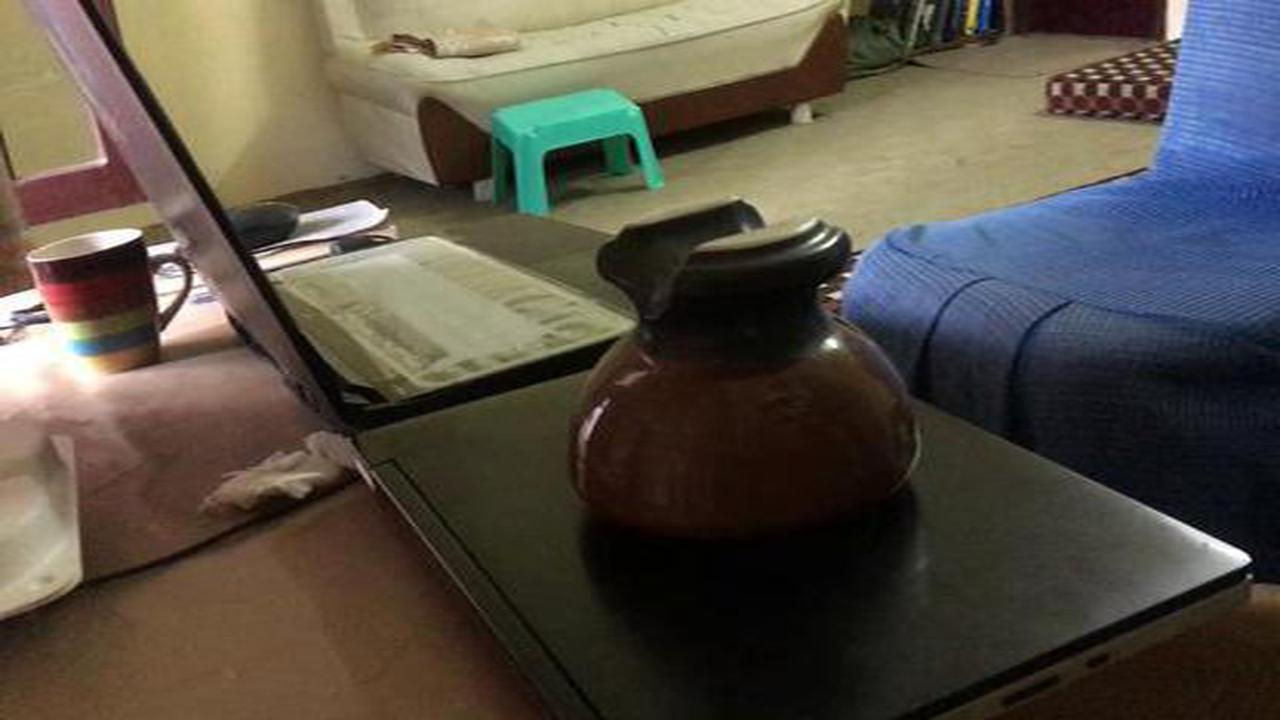insulator_pin: (530, 193, 951, 568)
